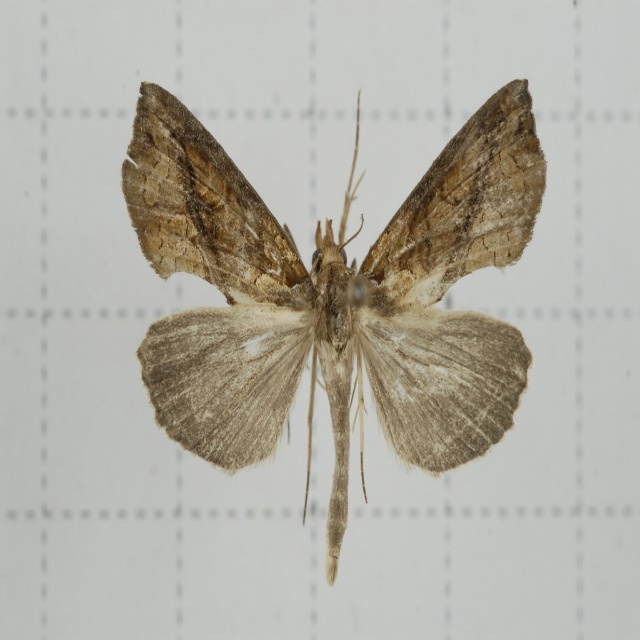Butterfly: (136, 133, 492, 549)
